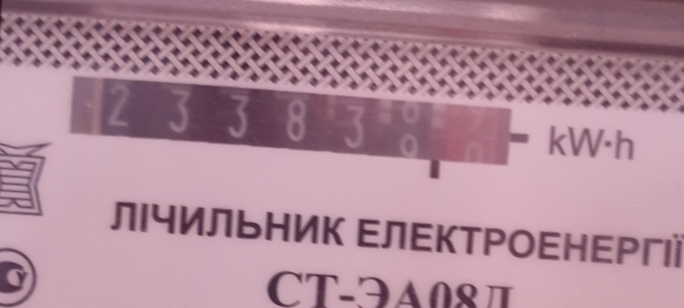0: (463, 140, 487, 167)
2: (106, 83, 134, 131)
3: (164, 86, 196, 137), (222, 91, 254, 142), (341, 103, 368, 150)
8: (281, 97, 312, 145), (399, 100, 424, 128)
9: (465, 103, 489, 135), (398, 131, 421, 162)
screen: (56, 65, 535, 190)
